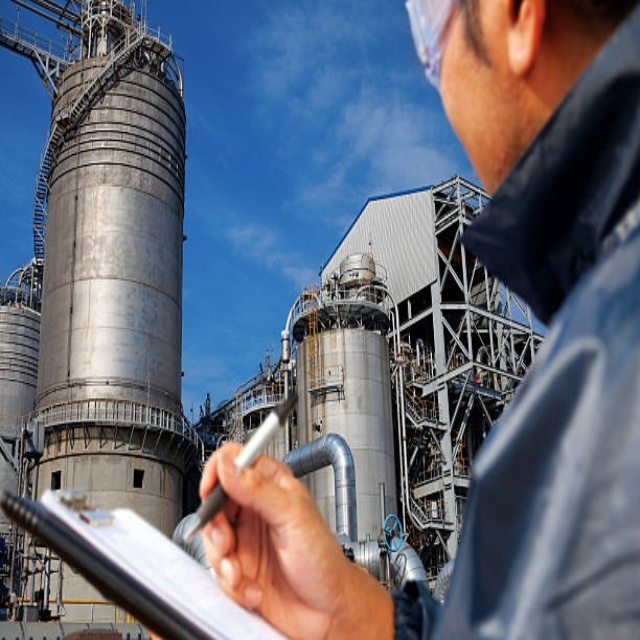Gafas: (403, 2, 457, 94)
Sin_guantes: (191, 437, 384, 640)
